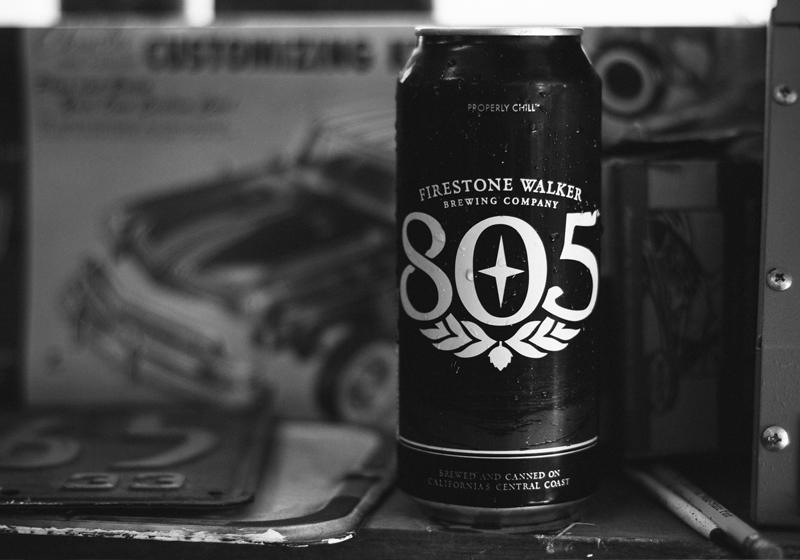beer can: (394, 27, 602, 525)
